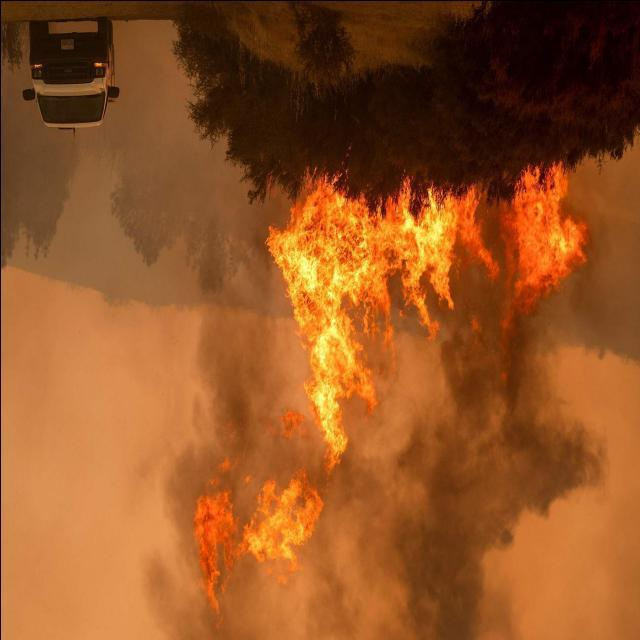Fire: (195, 168, 593, 626)
